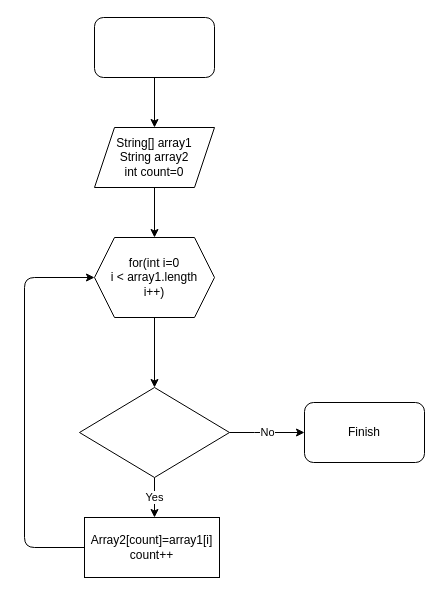
This 442x595 diagram has some shape labels left out. Each missing label, with the centre of its shape:
If(array1[i].lenght <=3: the point at 154,432
Start: the point at 154,47
